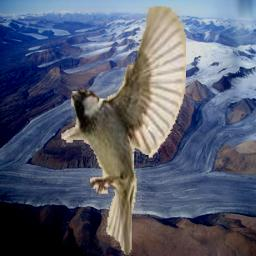Sparrow: (59, 0, 186, 256)
